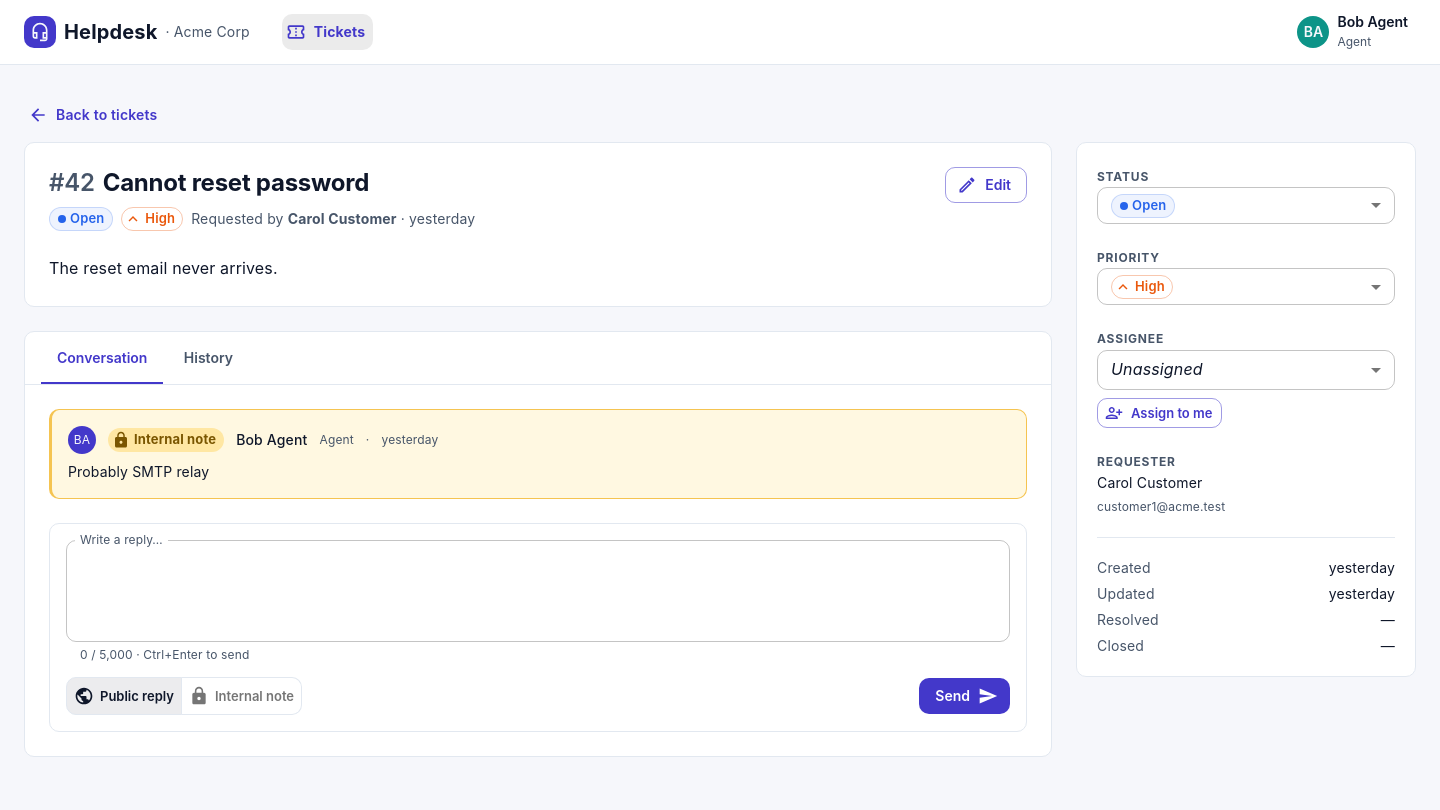
Test: page smoke tests › ticket detail shows info, actions, and internal notes
Check: the heading "#42Cannot reset password" is shown, box [49,168,369,196]
Check: the text "Probably SMTP relay" is shown, box [68,463,209,480]
Click the tab "History" at (208, 358), box [163,332,253,384]
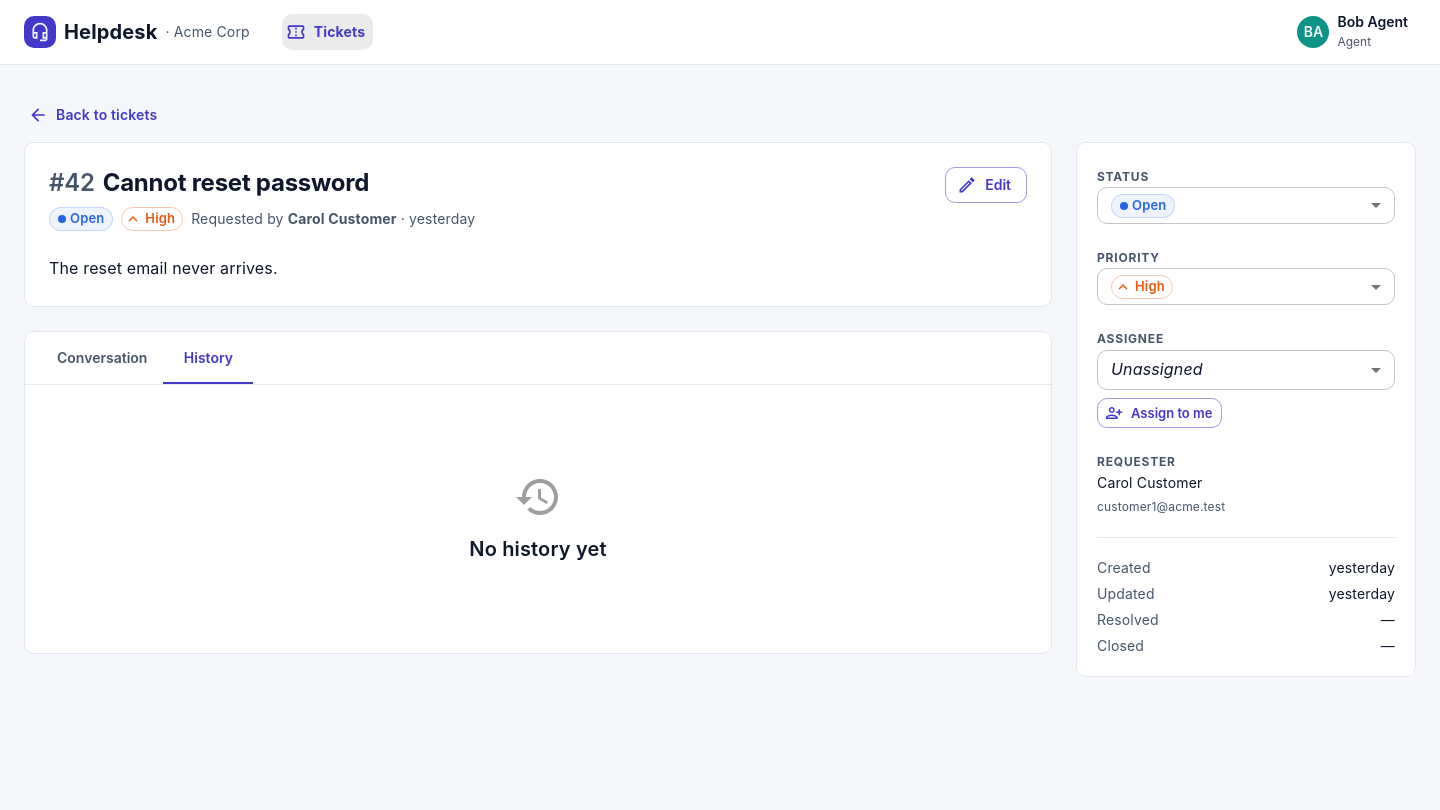
Check: the heading "No history yet" is shown, box [469,533,607,565]
